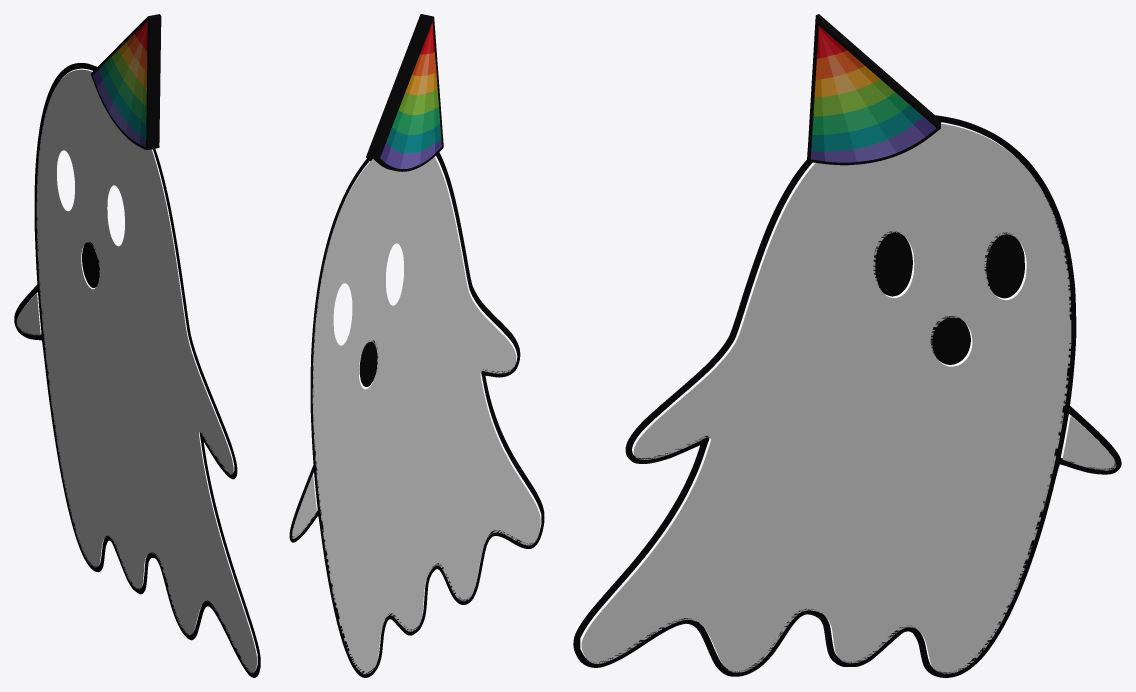
The model's file is ghost_party_animation.glb.
3 renders of one model, left to right at view 1: azimuth 30°, elevation 25°; view 2: azimuth 150°, elevation 25°; view 3: azimuth 270°, elevation 25°, orthographic. The views are drawn at different scales.
Parts seen in each view (by area): view 1: ghost, party_hat; view 2: ghost, party_hat; view 3: ghost, party_hat.
Boxes of the visible parts, box(x1,y1,x2,y2) form: ghost: box(14, 63, 260, 677); party_hat: box(91, 14, 161, 149); ghost: box(289, 147, 544, 677); party_hat: box(366, 14, 443, 171); ghost: box(573, 114, 1121, 677); party_hat: box(807, 14, 941, 165).
Bounding box in the file's own units: 0.3102 × 10.15 × 7.61.
